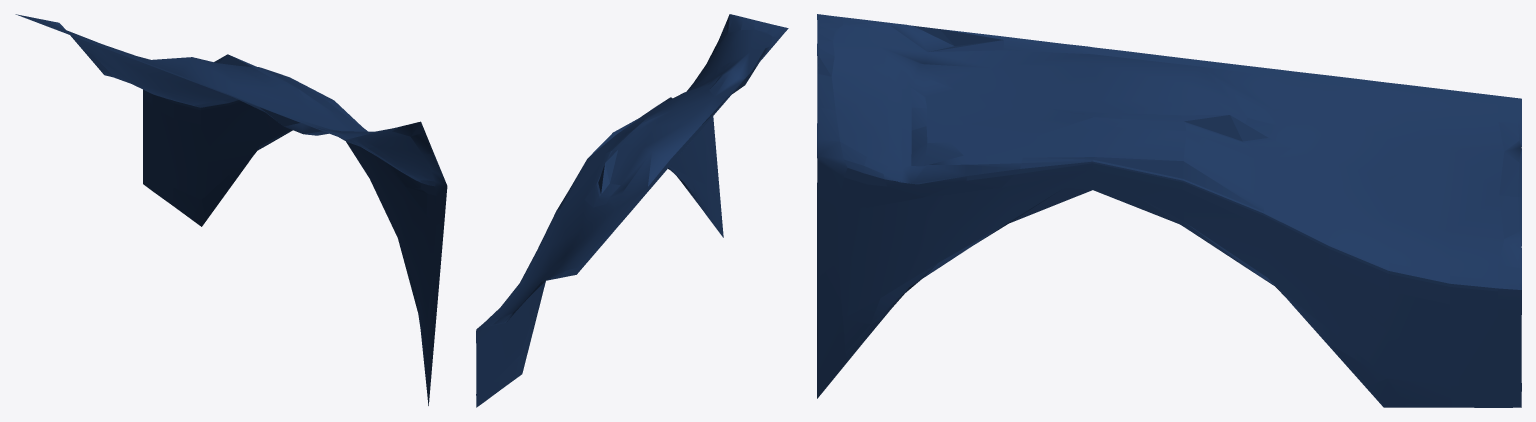
File: front_left_fender.glb
3 views of the same model, side by side, from view 1: azimuth 30°, elevation 25°; view 2: azimuth 150°, elevation 25°; view 3: azimuth 270°, elevation 25° (orthographic). The views are drawn at different scales.
Parts seen in each view (by area): view 1: GEO_Fender_Front_Left; view 2: GEO_Fender_Front_Left; view 3: GEO_Fender_Front_Left.
Boxes of the visible parts, x1,y1,x2,y2 form: GEO_Fender_Front_Left: (15,14,447,405); GEO_Fender_Front_Left: (476,14,788,407); GEO_Fender_Front_Left: (817,14,1521,407).
Bounding box in the file's own units: 0.3648 × 0.7298 × 1.38.
